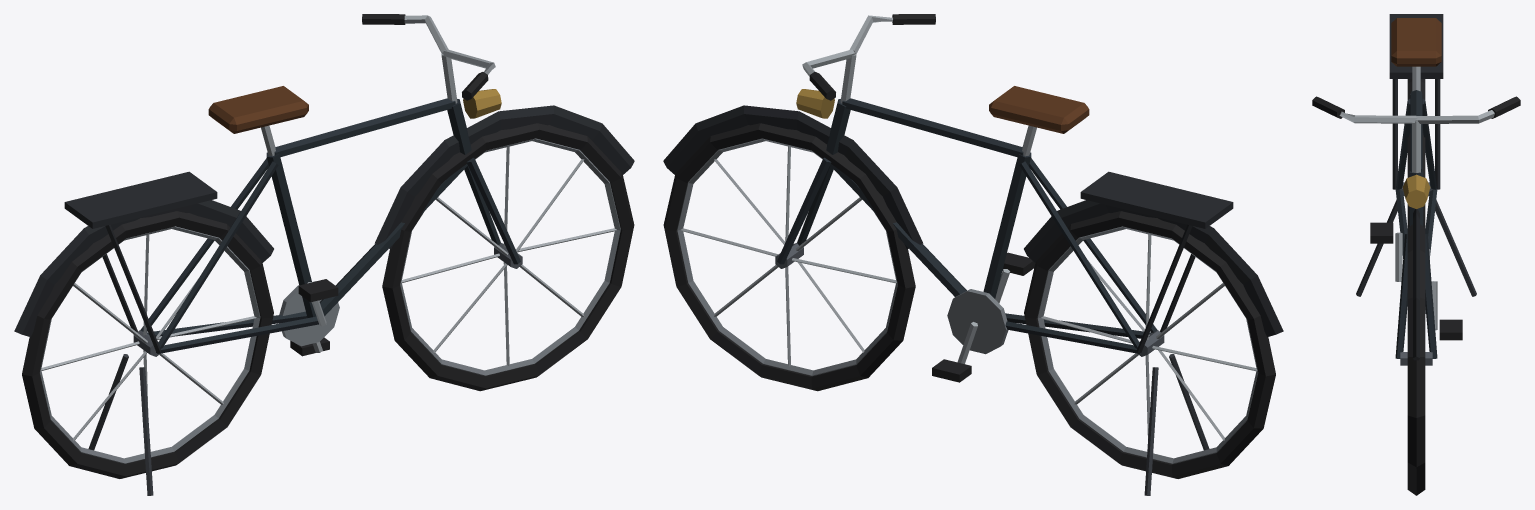
Rendered from prop_bicycle.glb.
3 views of the same model, side by side, from view 1: azimuth 30°, elevation 25°; view 2: azimuth 150°, elevation 25°; view 3: azimuth 270°, elevation 25° (orthographic). The views are drawn at different scales.
Parts seen in each view (by area): view 1: prop_bicycle; view 2: prop_bicycle; view 3: prop_bicycle.
Boxes of the visible parts, x1,y1,x2,y2 form: prop_bicycle: (14,14,634,495); prop_bicycle: (663,14,1283,495); prop_bicycle: (1312,14,1520,495).
Bounding box in the file's own units: 1.79 × 0.9859 × 0.5408.
